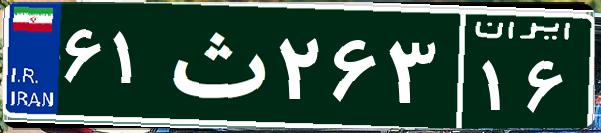1: (475, 38, 525, 113), (110, 28, 158, 105)
2: (273, 28, 330, 110)
3: (385, 28, 445, 110)
6: (330, 28, 385, 110), (57, 26, 110, 107), (525, 38, 570, 115)
ث: (158, 15, 273, 115)
